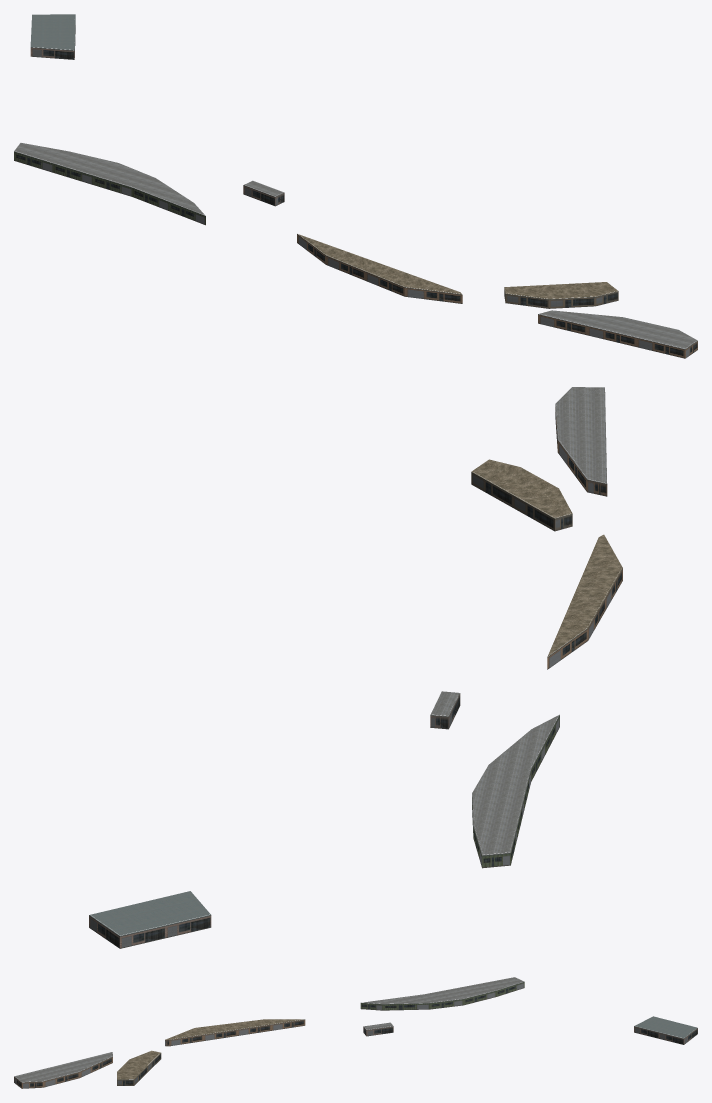
The picture shows the model from 3 angles, top to bottom: view 1: azimuth 30°, elevation 25°; view 2: azimuth 150°, elevation 25°; view 3: azimuth 270°, elevation 25°; orthographic projection. The views are drawn at different scales.
Parts seen in each view (by area): view 1: SlateRoof, BrickArcade, ConcreteRoof, Workshop, ZincRoof, RibbedFront, PanelArcade; view 2: SlateRoof, ConcreteRoof, ZincRoof, PanelArcade, BrickArcade, RibbedFront, Workshop; view 3: SlateRoof, BrickArcade, ConcreteRoof, Workshop, ZincRoof, PanelArcade, RibbedFront.
Part boxes in pixels (bbox=[...]): SlateRoof: bbox=[14, 143, 697, 349]; BrickArcade: bbox=[297, 234, 697, 358]; ConcreteRoof: bbox=[298, 234, 618, 299]; Workshop: bbox=[14, 151, 205, 225]; ZincRoof: bbox=[30, 14, 75, 50]; RibbedFront: bbox=[504, 287, 618, 308]; PanelArcade: bbox=[30, 25, 284, 206]; SlateRoof: bbox=[430, 387, 607, 855]; ConcreteRoof: bbox=[471, 459, 622, 656]; ZincRoof: bbox=[89, 891, 210, 936]; PanelArcade: bbox=[89, 693, 460, 948]; BrickArcade: bbox=[547, 407, 622, 669]; RibbedFront: bbox=[471, 472, 572, 531]; Workshop: bbox=[472, 715, 559, 868]; SlateRoof: bbox=[14, 977, 524, 1082]; BrickArcade: bbox=[14, 1019, 305, 1088]; ConcreteRoof: bbox=[117, 1019, 303, 1079]; Workshop: bbox=[360, 982, 524, 1010]; ZincRoof: bbox=[634, 1016, 697, 1038]; PanelArcade: bbox=[363, 1026, 697, 1044]; RibbedFront: bbox=[117, 1053, 161, 1085].
Size of the model in its own units: 107 by 3.12 by 294.
Materials: 7 (7 with a texture image).
